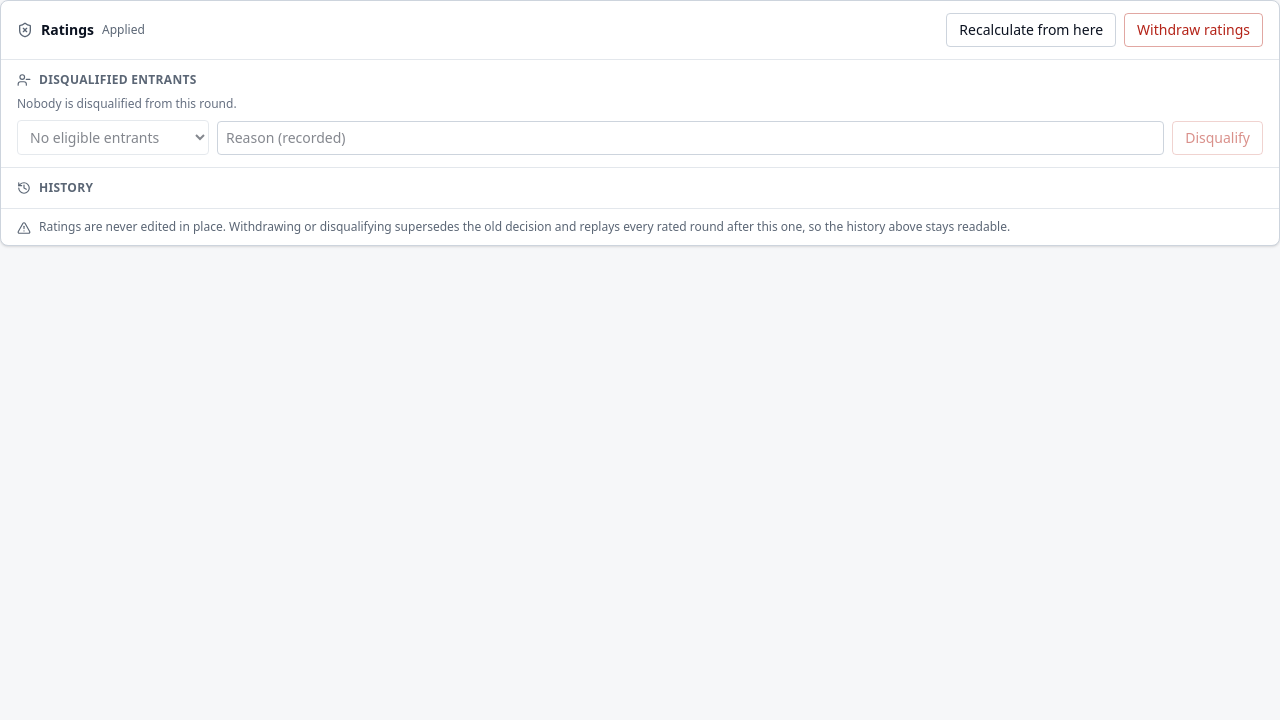
Scenario: ContestRatingLedger › reports the number of rounds a recalculation replayed
The width and height of the screenshot is (1280, 720).
Step 1. Click the button "Recalculate from here" → {"x": 1031, "y": 30}, box [946,13,1116,47]
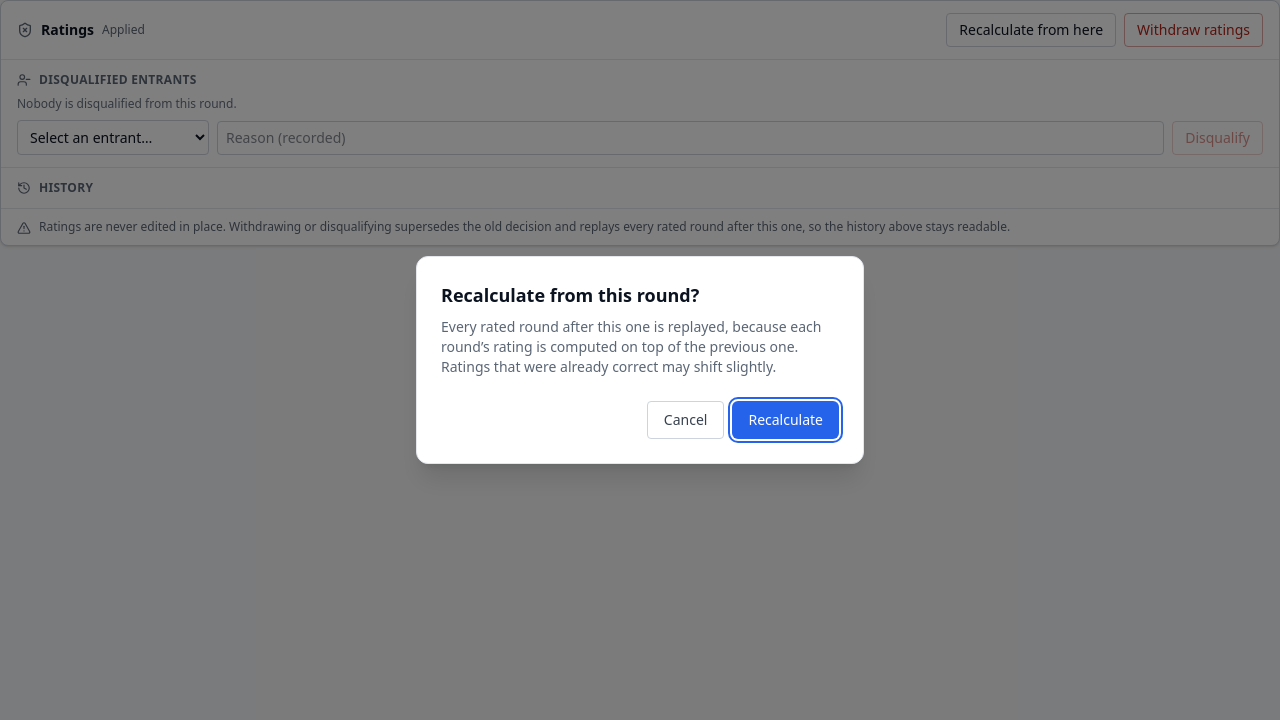
// The confirmation explains the replay before anything is written.
Step 2. Click the button "Recalculate" → {"x": 786, "y": 420}, box [732,401,839,439]
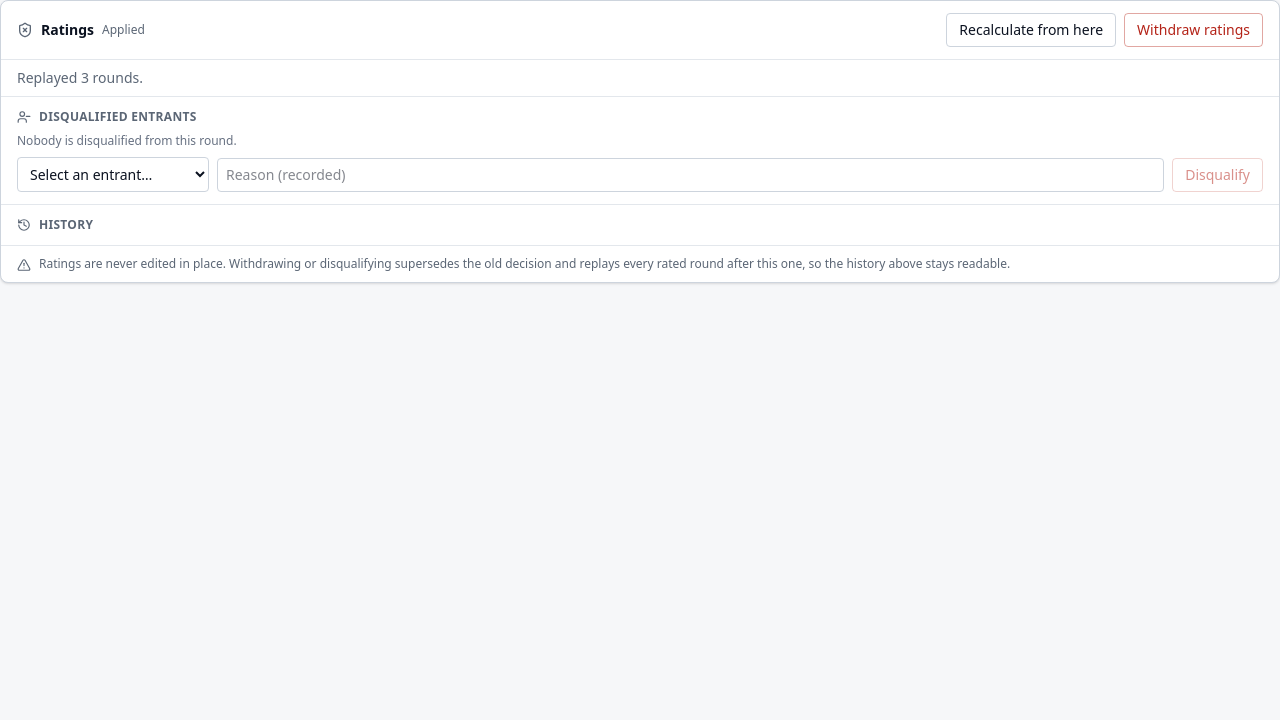
Now the text "Replayed 3 rounds." is shown, box [1,60,1279,97]
